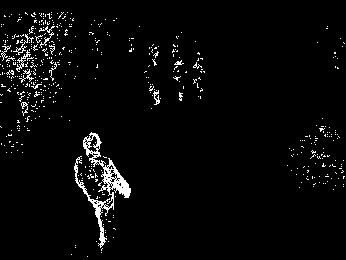person: (75, 130, 133, 250)
